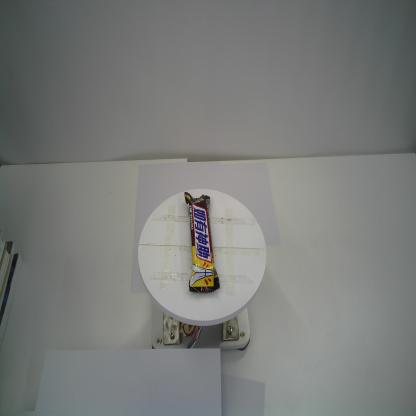Chocolate: (184, 191, 221, 295)
